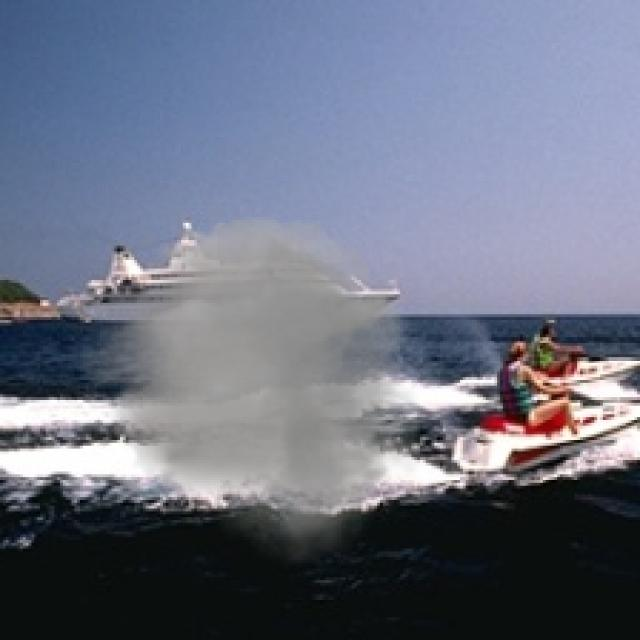smoke: (66, 208, 437, 566)
